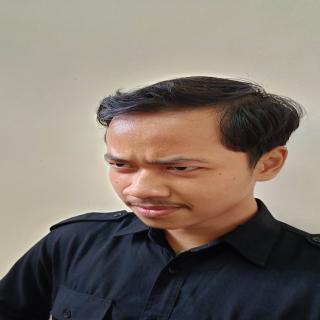Marah: (98, 100, 263, 239)
